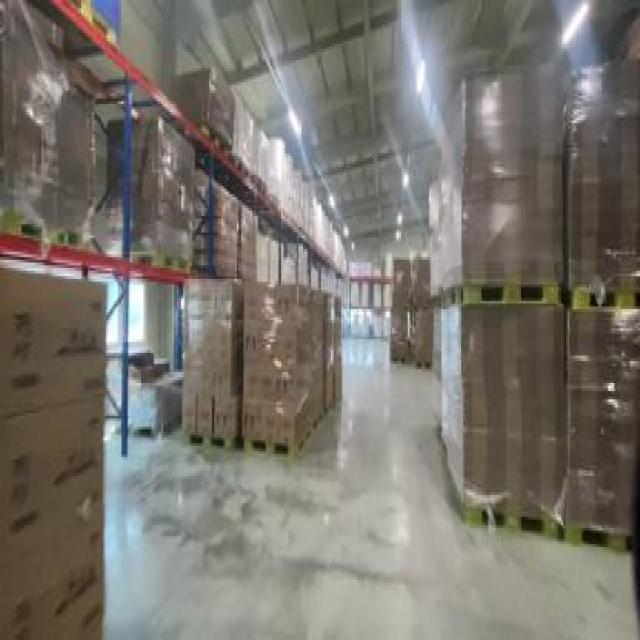box: (431, 74, 638, 555), (1, 273, 104, 632), (183, 273, 343, 465), (0, 33, 117, 254), (109, 107, 191, 270), (192, 186, 263, 287), (386, 249, 434, 369), (171, 66, 234, 150)
white_roll: (232, 110, 288, 210), (288, 162, 330, 246), (349, 279, 394, 304), (348, 312, 389, 336), (326, 230, 349, 268), (349, 257, 391, 274)
